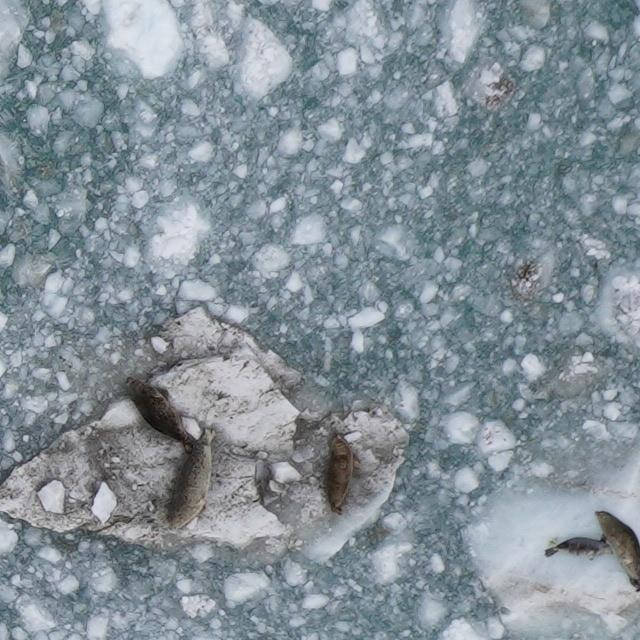seal: (123, 375, 203, 458), (165, 424, 218, 535), (591, 507, 640, 596), (320, 429, 365, 521), (541, 530, 617, 565), (248, 446, 277, 510)
